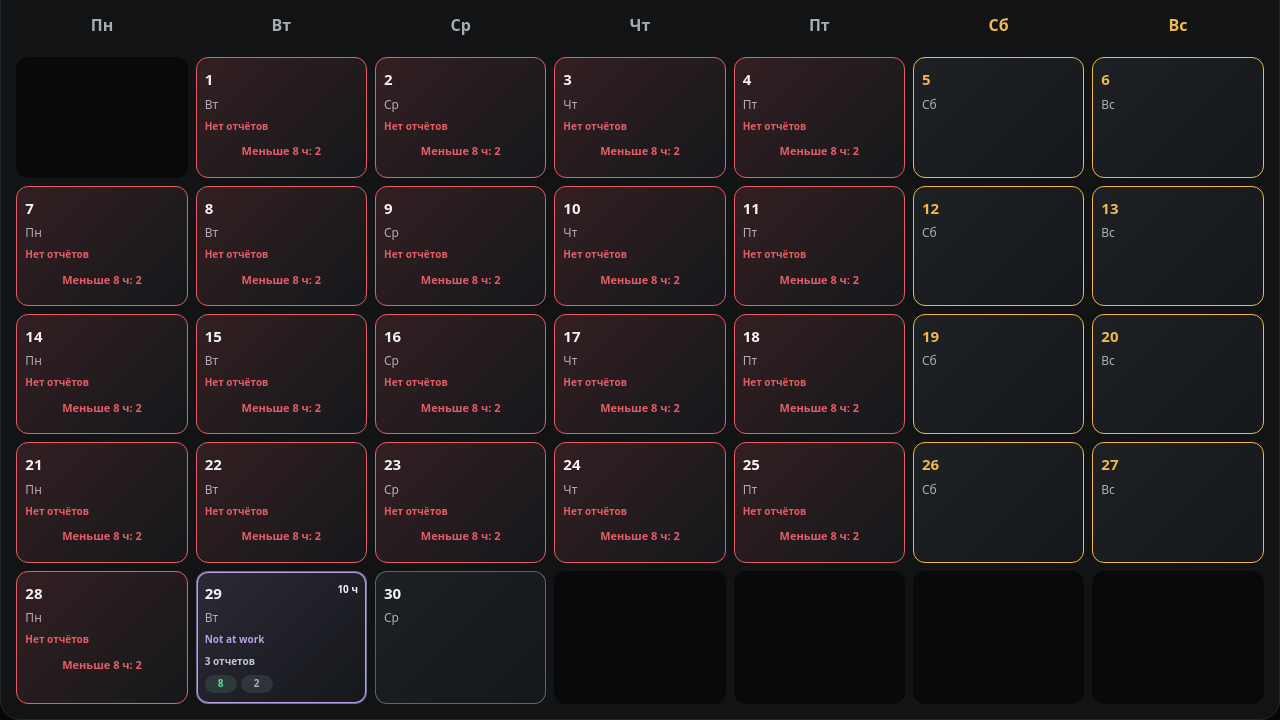
Test: month calendar hour warnings › lists today's deficit in the summary and counts absence hours toward the norm
(page scrolled)
Click the button with aria-label "29 сентября:" at (281, 637), box [196,570,367,704]
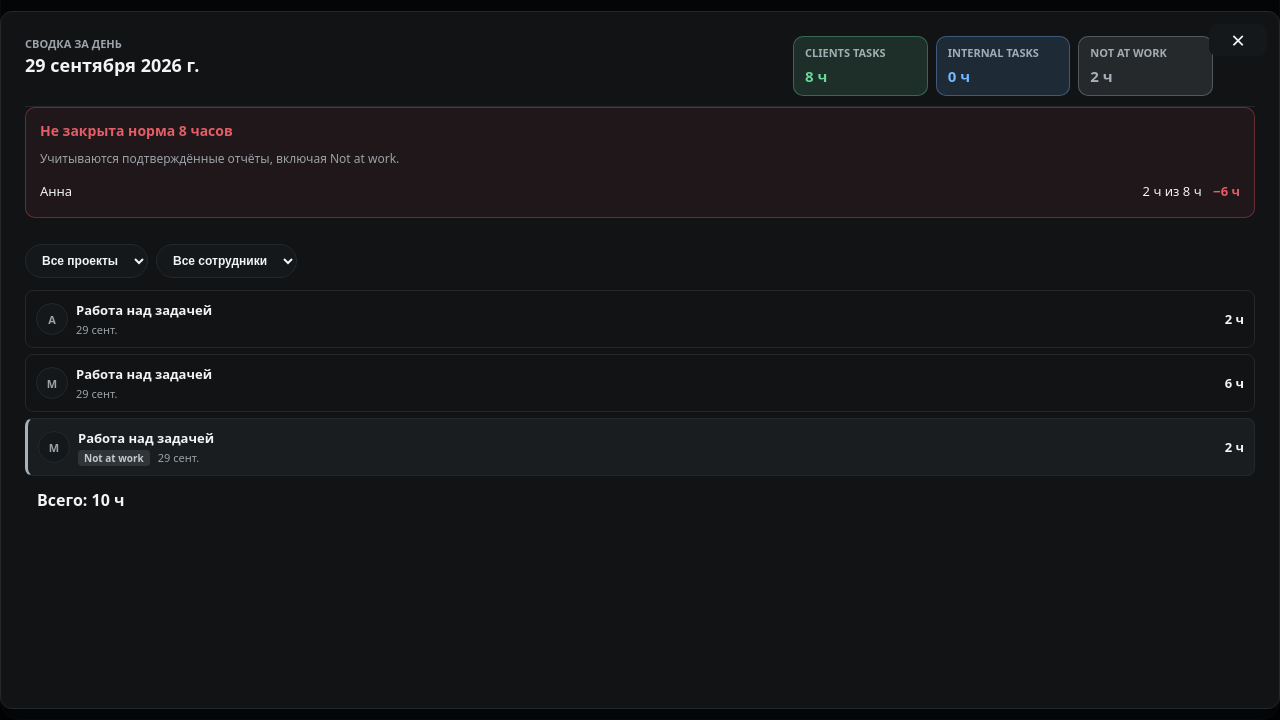
Expected: the element named "Недостающие часы" does not show "Михаил", [25,107,1255,218]
Expected: the number of list items is 1, [40,178,1240,205]
